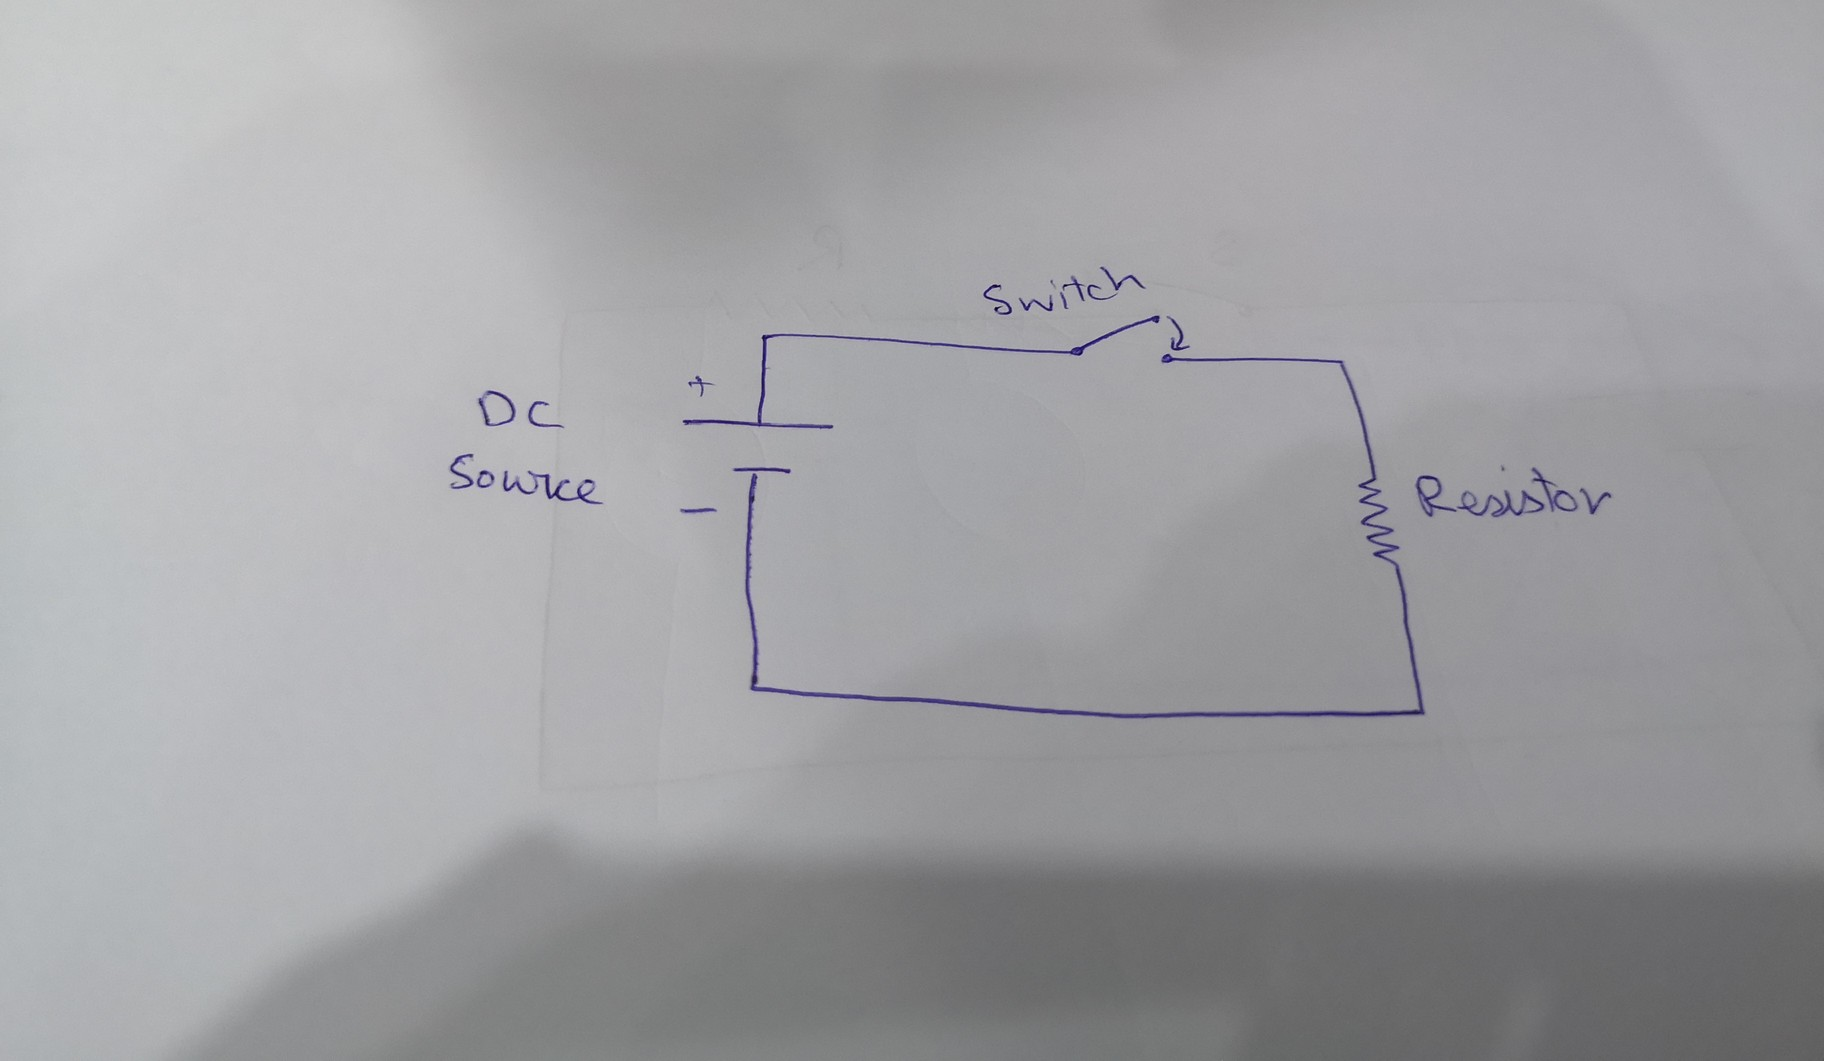junction: (1320, 349, 1355, 380), (741, 673, 771, 702), (1408, 697, 1432, 722), (754, 328, 773, 346)
resistor: (1352, 471, 1403, 568)
switch: (1072, 302, 1190, 369)
text: (1410, 465, 1609, 522), (447, 446, 605, 508), (976, 265, 1151, 315), (469, 389, 572, 445)
voltage.dc: (677, 414, 841, 481)
